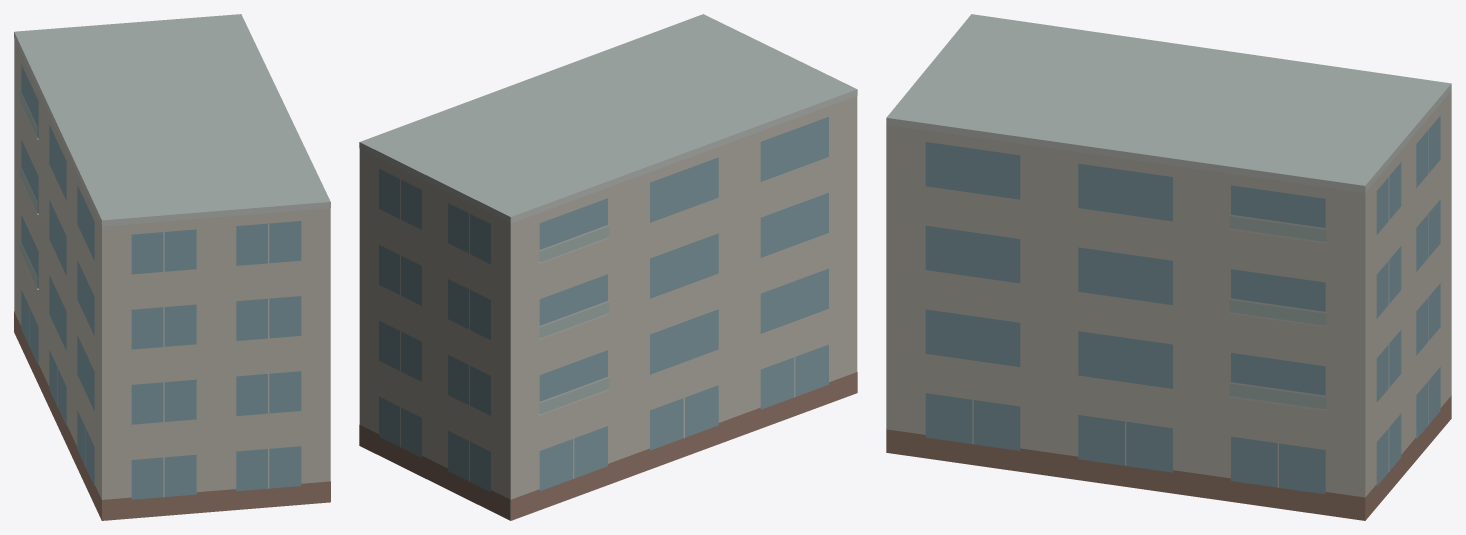
Rendered from survey-upis-32886760.glb.
3 renders of one model, left to right at view 1: azimuth 30°, elevation 25°; view 2: azimuth 150°, elevation 25°; view 3: azimuth 270°, elevation 25°, orthographic. The views are drawn at different scales.
Parts seen in each view (by area): view 1: survey-upis-32886760.tmp; view 2: survey-upis-32886760.tmp; view 3: survey-upis-32886760.tmp.
Part boxes in pixels (x1,y1,x2,y2): survey-upis-32886760.tmp: (14, 14, 330, 520); survey-upis-32886760.tmp: (359, 14, 857, 520); survey-upis-32886760.tmp: (886, 14, 1451, 520).
Bounding box in the file's own units: 12.89 × 11.7 × 17.91.
